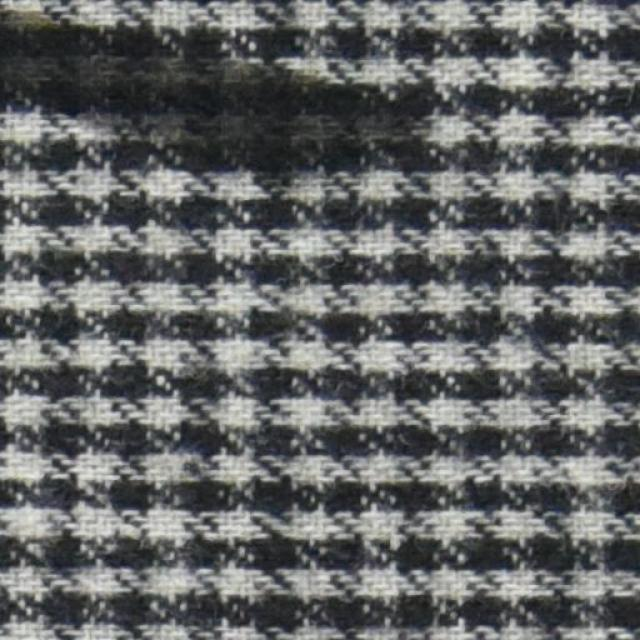Stain: (0, 2, 446, 168)
